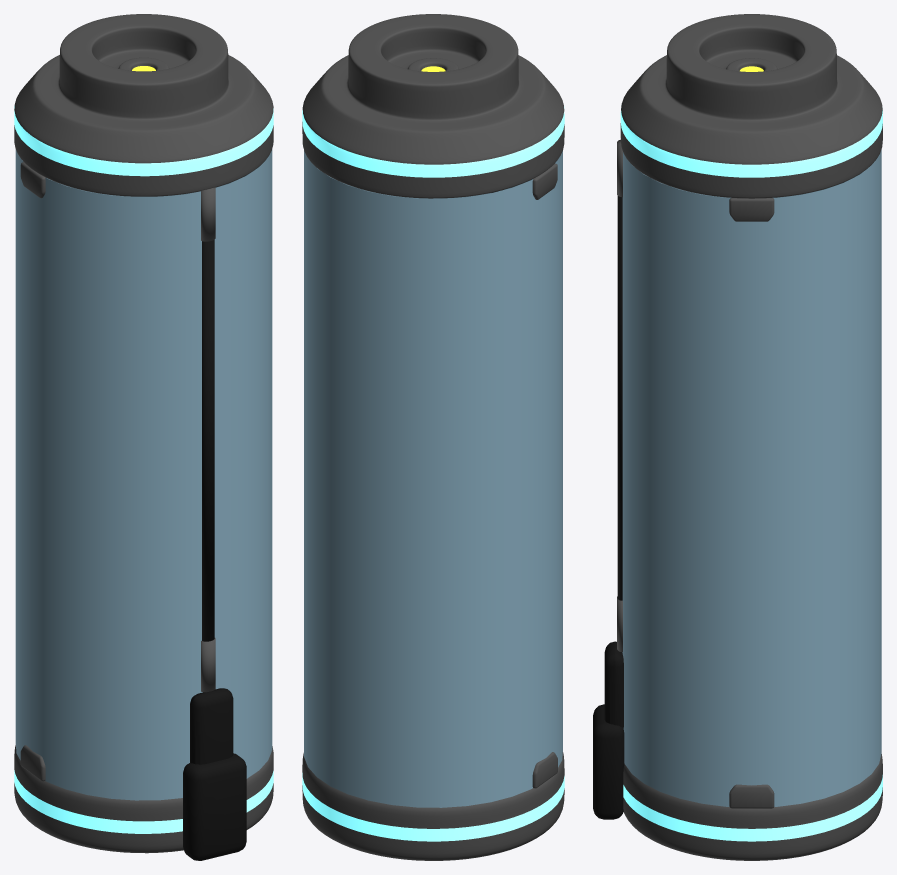
File: Robot Egg 1x1.fbx
The picture shows the model from 3 angles, left to right: view 1: azimuth 30°, elevation 25°; view 2: azimuth 150°, elevation 25°; view 3: azimuth 270°, elevation 25°; orthographic projection.
Visible parts, largest first — view 1: Tube.001, Top.001, Base.003, Back Device.001, Back Tube, Back box, Cylinder.014, Cylinder.013, Latch_Bottom, Latch_Top; view 2: Tube.001, Top.001, Base.003, Latch_Bottom, Latch_Top; view 3: Tube.001, Top.001, Base.003, Back Device.001, Back Tube, Back box, Latch_Bottom, Latch_Top.
Part boxes in pixels (bbox=[...]): Tube.001: bbox=[15, 149, 272, 800]; Top.001: bbox=[14, 14, 273, 196]; Base.003: bbox=[14, 745, 273, 853]; Back Device.001: bbox=[183, 753, 246, 860]; Back Tube: bbox=[202, 240, 214, 641]; Back box: bbox=[190, 688, 233, 764]; Cylinder.014: bbox=[201, 187, 215, 241]; Cylinder.013: bbox=[201, 638, 215, 692]; Latch_Bottom: bbox=[20, 745, 45, 781]; Latch_Top: bbox=[20, 162, 45, 198]; Tube.001: bbox=[304, 150, 562, 807]; Top.001: bbox=[302, 14, 564, 198]; Base.003: bbox=[302, 752, 564, 860]; Latch_Bottom: bbox=[532, 752, 557, 788]; Latch_Top: bbox=[532, 163, 557, 199]; Tube.001: bbox=[622, 149, 881, 806]; Top.001: bbox=[620, 14, 882, 198]; Base.003: bbox=[623, 754, 882, 860]; Back Device.001: bbox=[593, 704, 624, 819]; Back Tube: bbox=[617, 196, 622, 600]; Back box: bbox=[604, 641, 623, 727]; Latch_Bottom: bbox=[729, 784, 774, 808]; Latch_Top: bbox=[729, 197, 774, 221].
Bounding box in the file's own units: 101 × 320 × 111.
